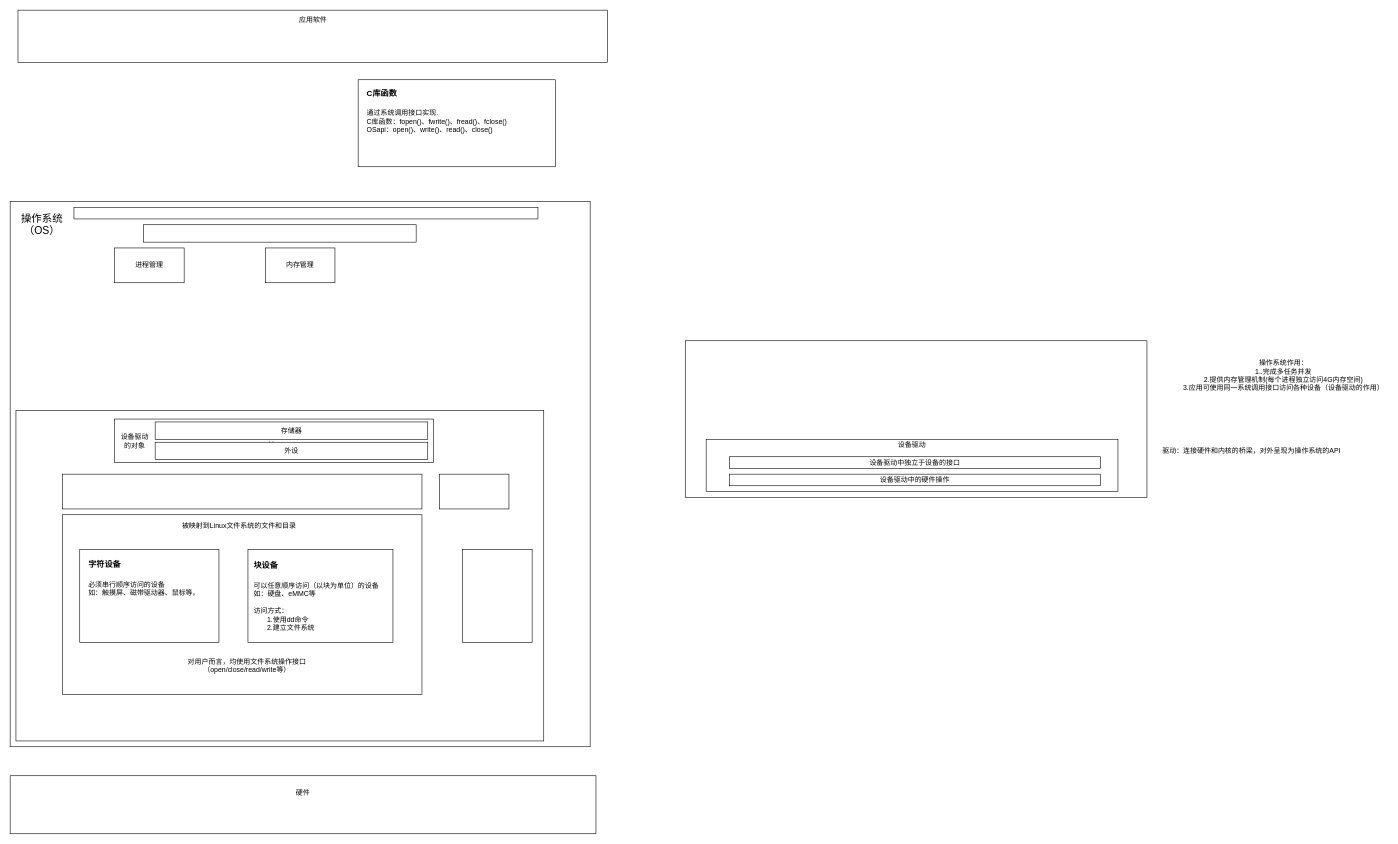
The diagram is 1398 pixels wide and 844 high, and some of its shapes have lost their labels. The shapes that lost their labels are listed below. From the top down, each one's centre as x and y in pixels, then its label:
At (x=279, y=233): "CPU（可能还集成存储器和外设）".
At (x=305, y=213): "操作系统API".
At (x=242, y=491): "VFS（虚拟文件系统）".
At (x=474, y=491): "套接字".
At (x=497, y=595): "网络设备 面向数据的接收和发送设计 主要使用套接字接口".
